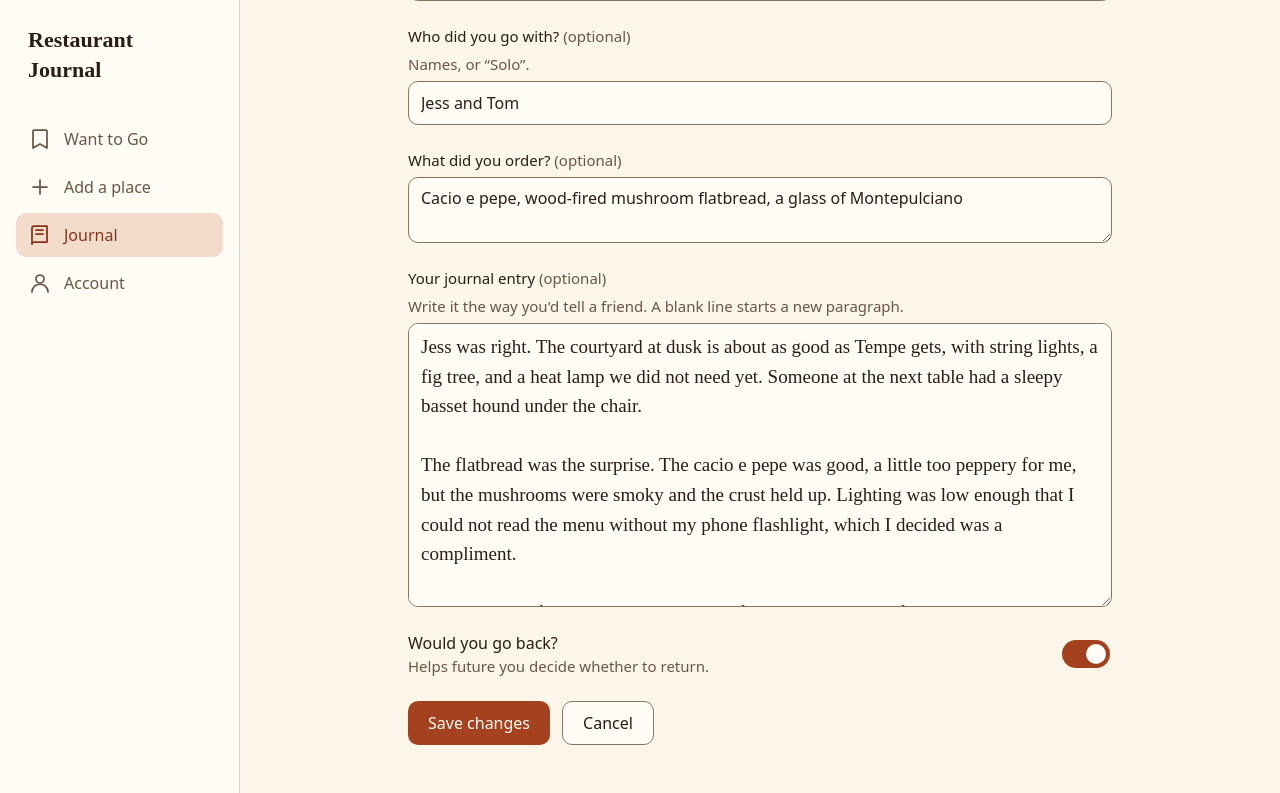
Test: Edit entry screen › cancels back to the entry without changes
(page scrolled)
Type " EXTRA" into the text box labelled "Your journal entry (optional)" at point(760, 465), box [408, 323, 1112, 607]
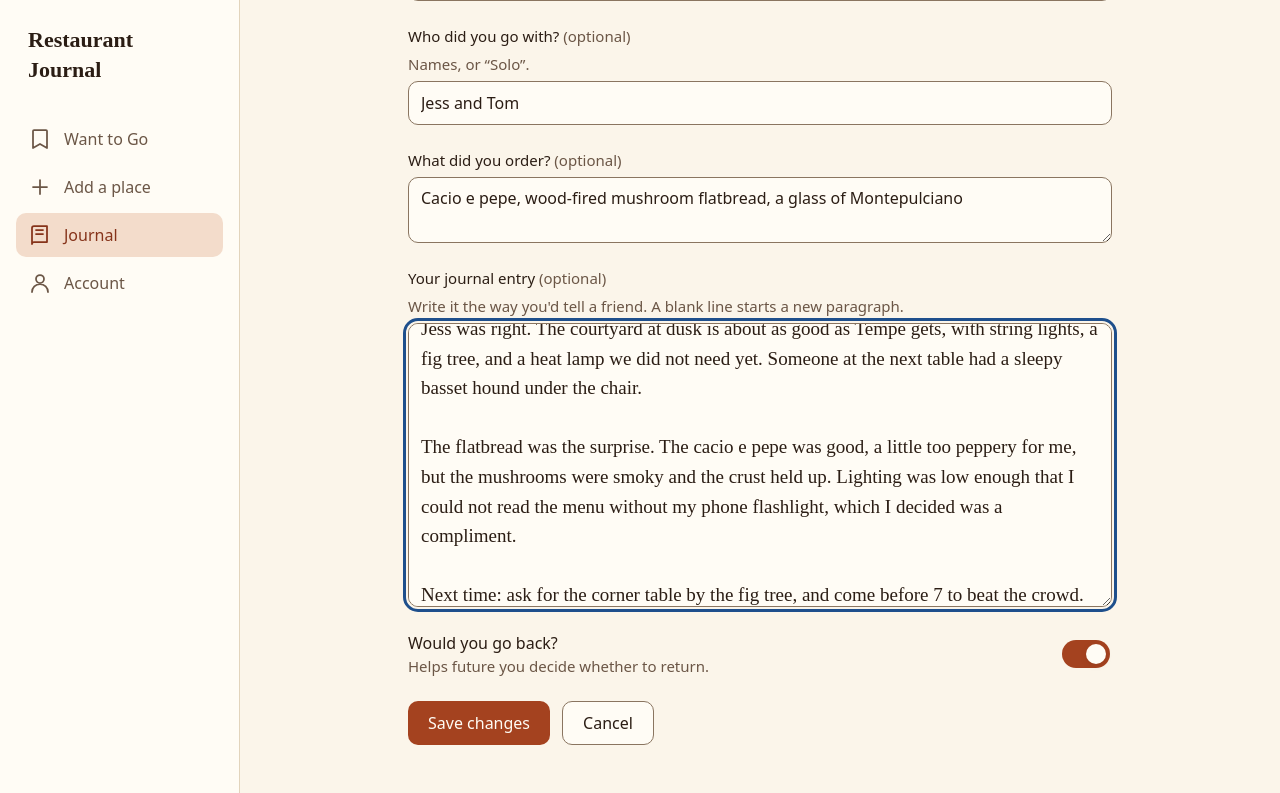
Click the link "Cancel" at point(608, 723), box [562, 701, 654, 745]
(page scrolled)
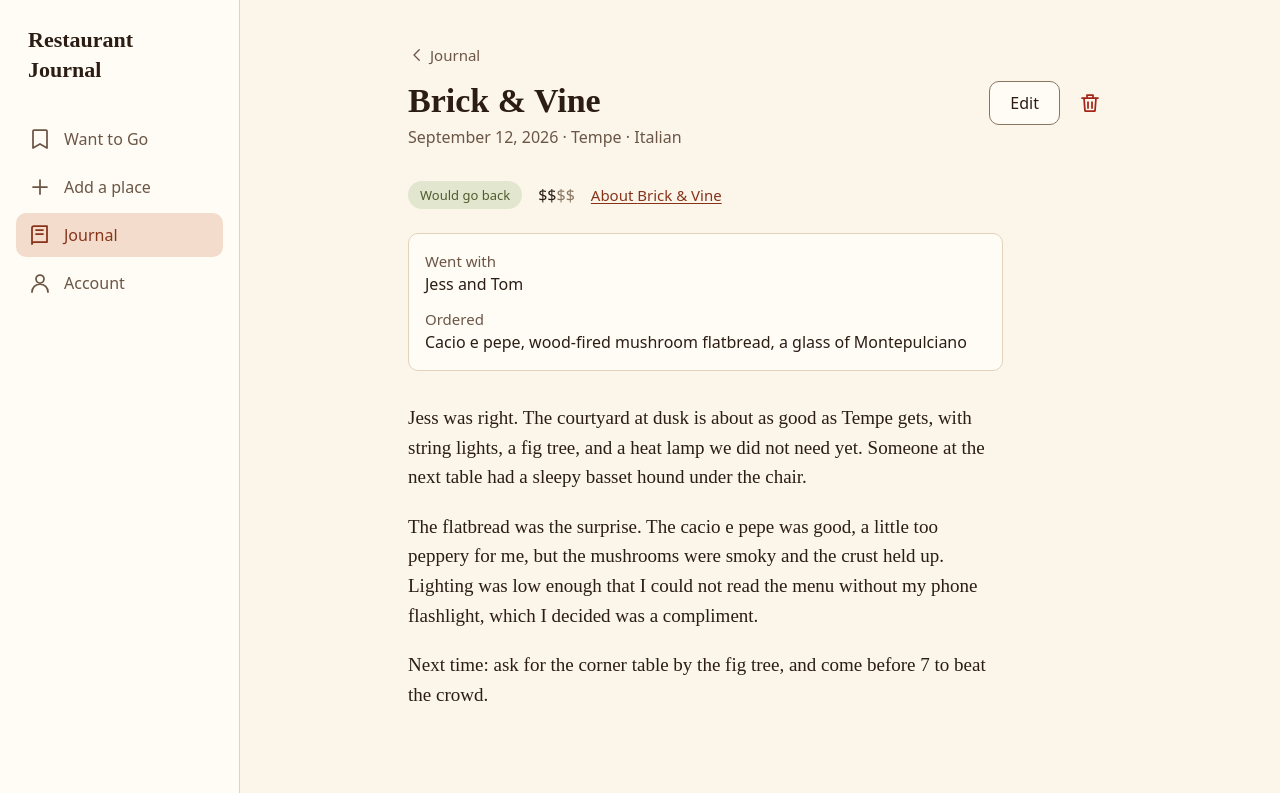
expect the heading "Brick & Vine" is shown: met, box [408, 82, 601, 119]
